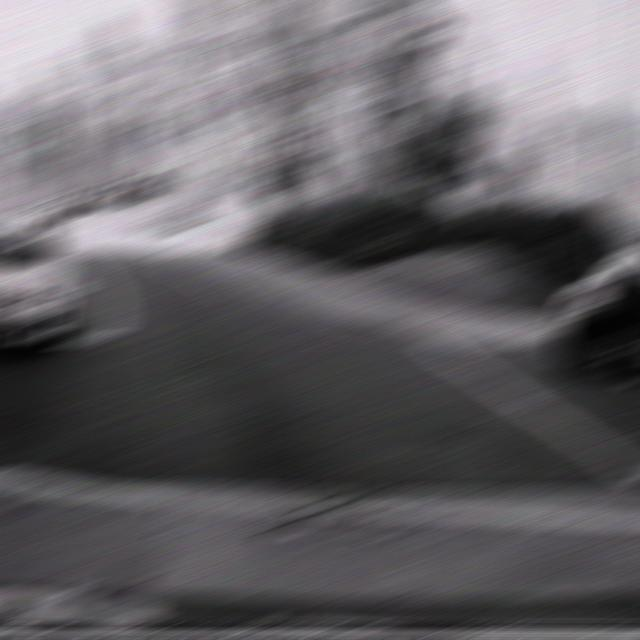pedestrianCrossing: (50, 170, 79, 195)
